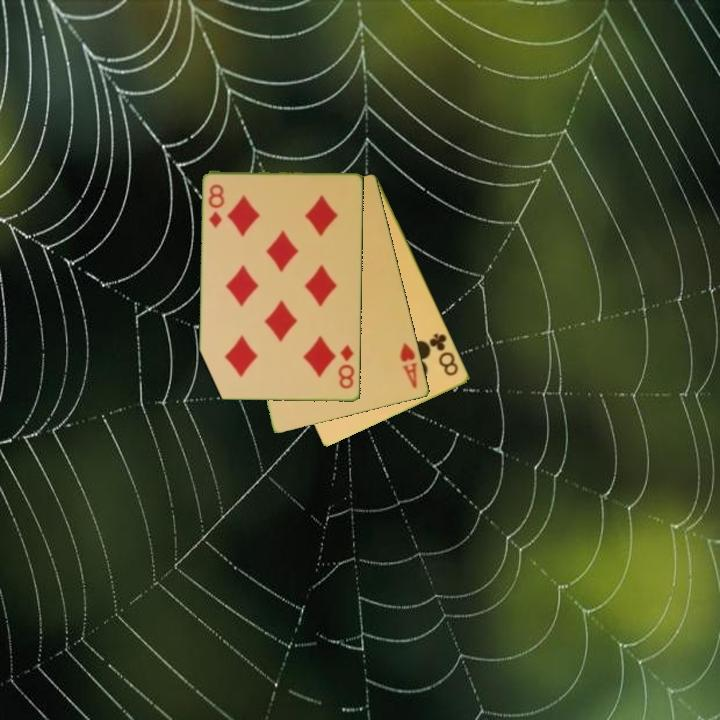8c: (426, 329, 462, 379)
8d: (205, 181, 228, 231), (335, 342, 357, 392)
Ah: (397, 340, 420, 391)
